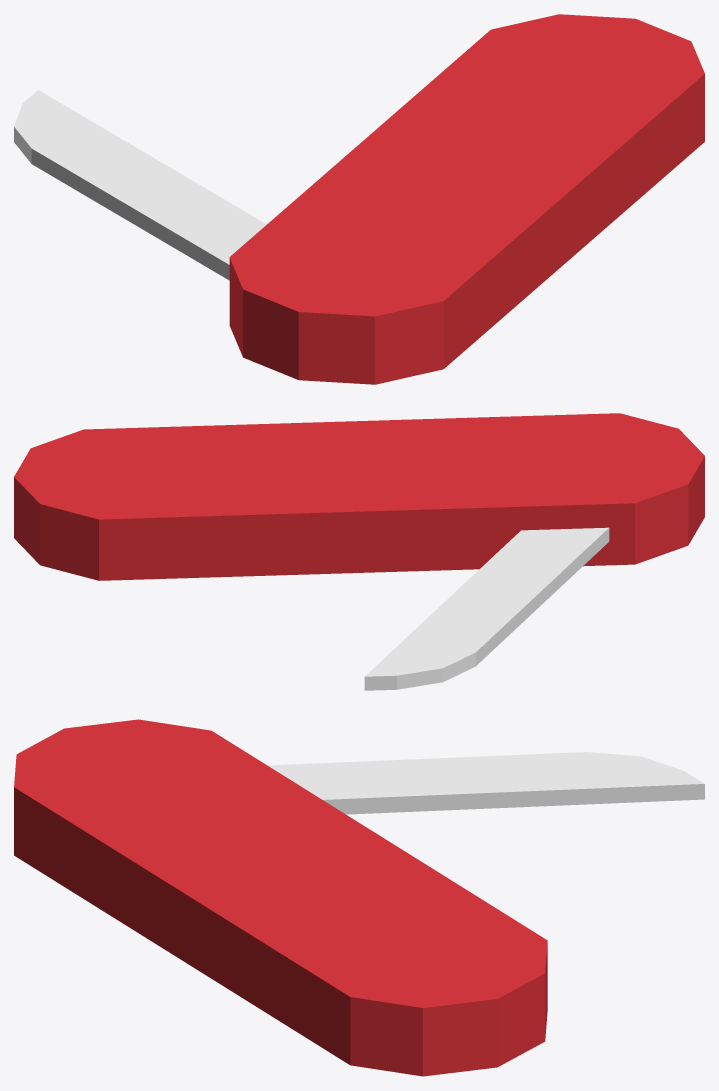
File: Swiss knife.glb
3 views of the same model, one above another, from view 1: azimuth 30°, elevation 25°; view 2: azimuth 150°, elevation 25°; view 3: azimuth 270°, elevation 25° (orthographic). The views are drawn at different scales.
Visible parts, largest first — view 1: Swiss knife; view 2: Swiss knife; view 3: Swiss knife.
Part boxes in pixels (x1=…): Swiss knife: x1=14, y1=14, x2=704, y2=384; Swiss knife: x1=14, y1=413, x2=704, y2=690; Swiss knife: x1=14, y1=719, x2=704, y2=1076.
Size of the model in its own units: 0.1541 by 0.017 by 0.1559.
Materials: 2 (2 with a texture image).
